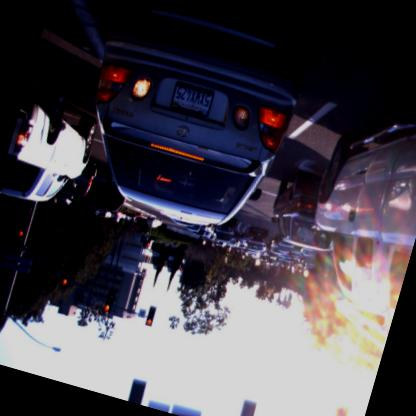trafficlight: (144, 304, 158, 328), (102, 290, 116, 314), (61, 264, 74, 287), (16, 218, 29, 240)
